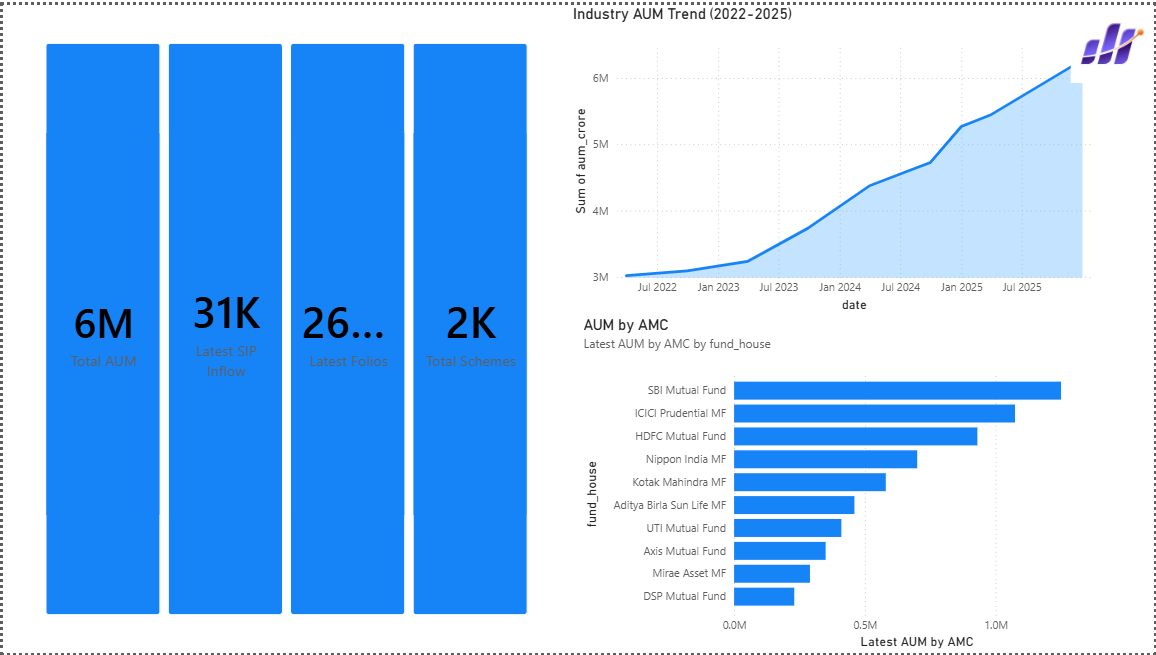

What the dashboard file says about the page in this screenshot:
{"tool":"powerbi","page":{"name":"Industry Overview","canvas":[1280,720],"ordinal":0},"visuals":[{"type":"lineChart","title":"Industry AUM Trend (2022-2025)","fields":{"Y":["Sum(03_aum_by_fund_house.aum_crore)"],"Category":["03_aum_by_fund_house.date.Variation.Date Hierarchy.Year"]},"box":[627.7,0,597.9,345.1],"z":1000},{"type":"clusteredBarChart","title":"AUM by AMC","fields":{"Y":["03_aum_by_fund_house.Latest AUM by AMC"],"Category":["03_aum_by_fund_house.fund_house"]},"box":[640.5,345.1,597.9,374.9],"z":2000},{"type":"cardVisual","fields":{"Data":["03_aum_by_fund_house.Total AUM","04_monthly_sip_inflows.Latest SIP Inflow","06_industry_folio_count.Latest Folios","01_fund_master.Total Schemes"]},"box":[30,25,571.7,670],"z":4000},{"type":"image","box":[1185,0,95,86.7],"z":4001}]}

Visuals, with their boxes in screenshot pixels (x1, y1, x2, y2), scaled from the page's 1280x720 canvas onto the 1156x655 screenshot:
"Industry AUM Trend (2022-2025)" lineChart: <box>567,0,1107,314</box>
"AUM by AMC" clusteredBarChart: <box>578,314,1118,654</box>
cardVisual - 03_aum_by_fund_house.Total AUM x 04_monthly_sip_inflows.Latest SIP Inflow: <box>27,23,543,632</box>
image: <box>1070,0,1155,79</box>
